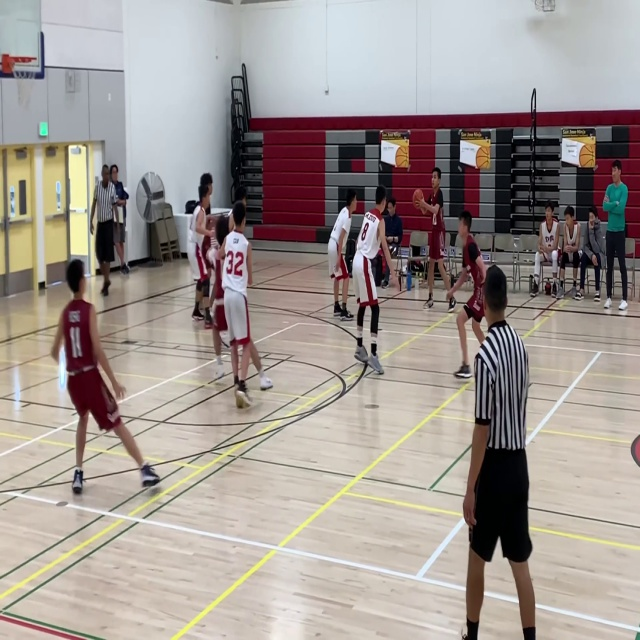Basketball: (412, 189, 424, 207)
